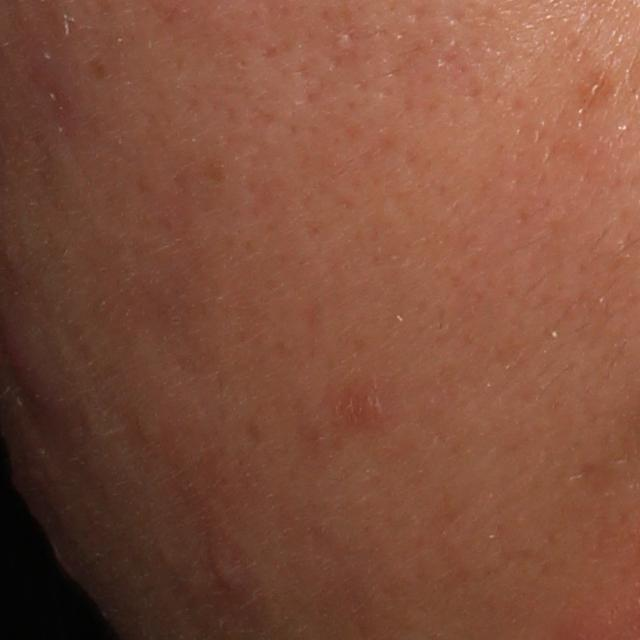papule: (210, 543, 243, 594)
